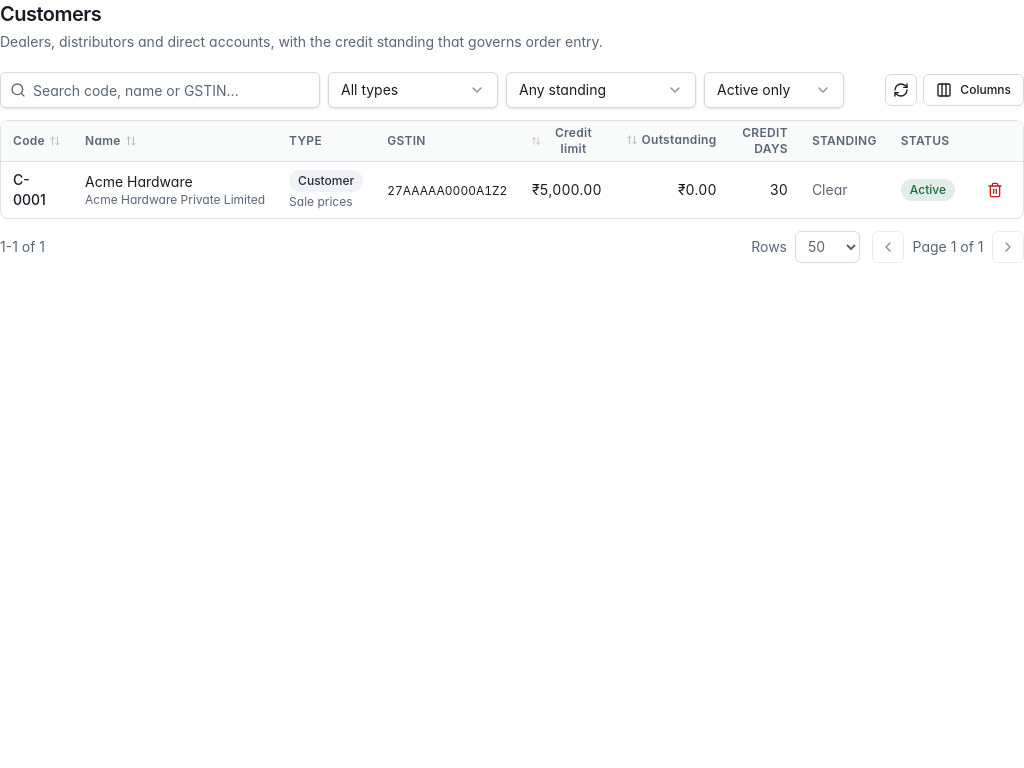
Test case: retiring an account › shows the API refusal in the dialog, next to what was typed
Click the button named "Retire C-0001" at coordinates (995, 190), box [979,174,1011,206]
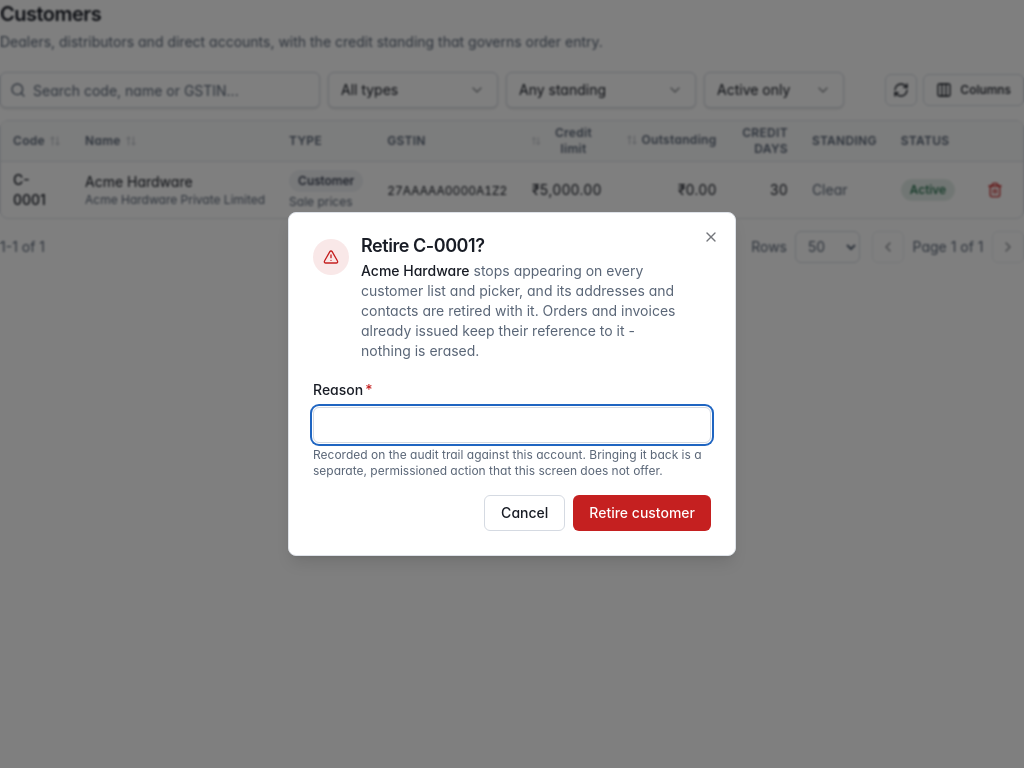
expect the field labelled "Reason*" is shown: met
Type "Duplicate account" into the field labelled "Reason*" at coordinates (512, 425), box [313,407,711,443]
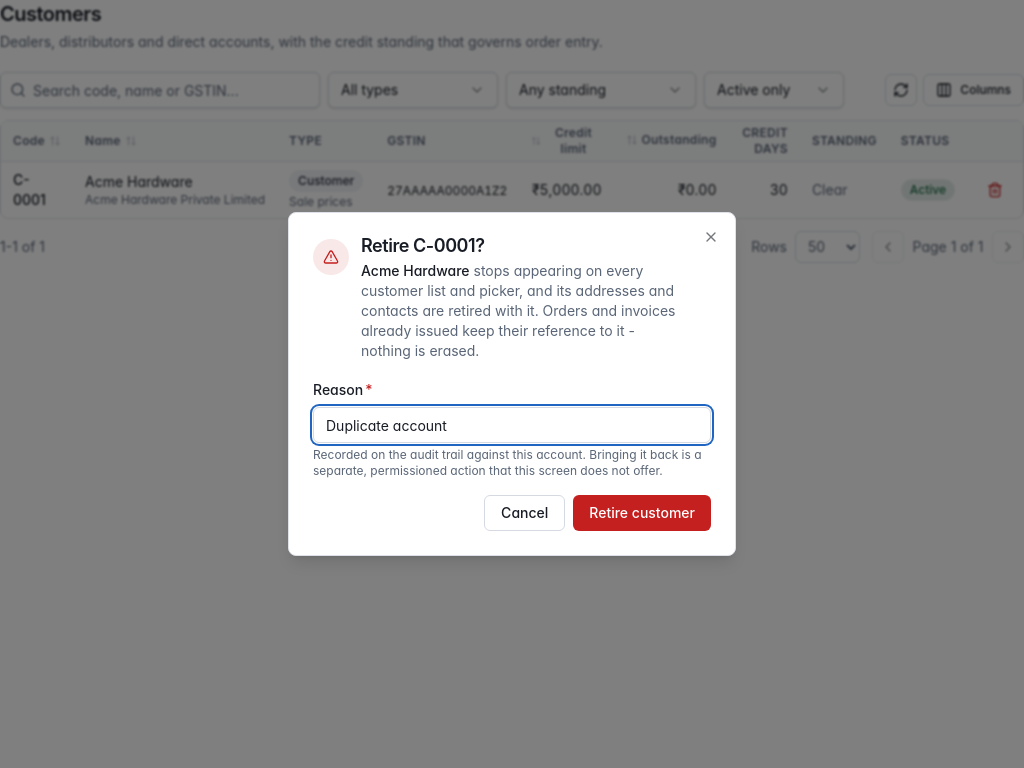
Click the button "Retire customer" at coordinates (642, 513), box [573,495,711,531]
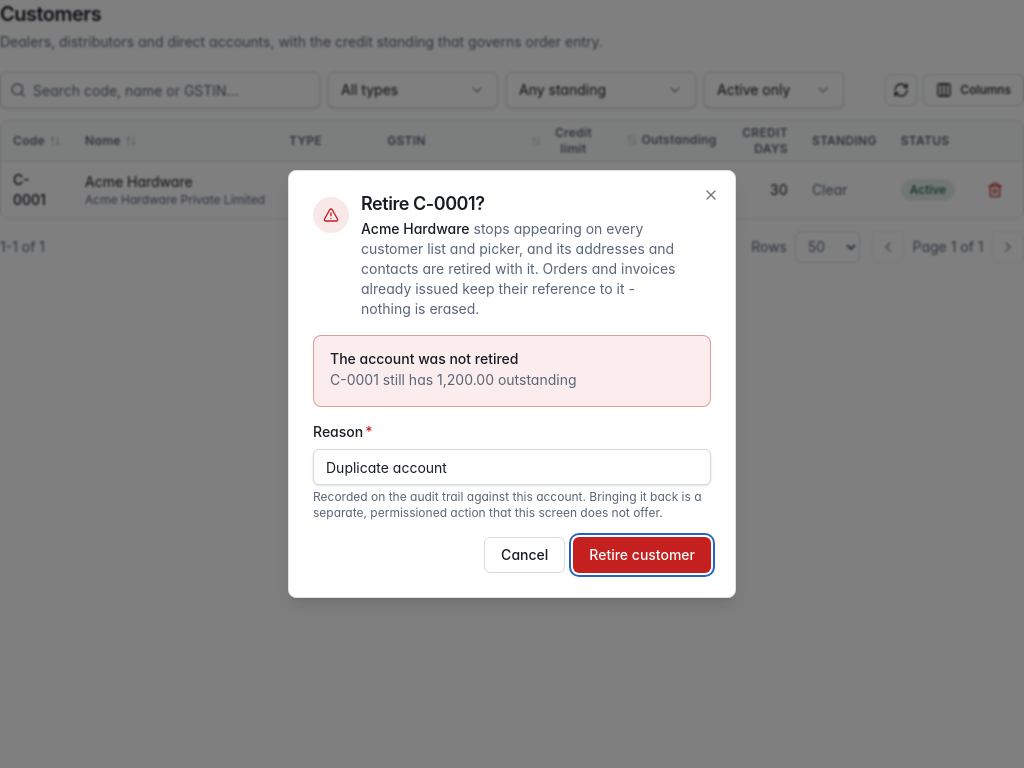
expect the heading "The account was not retired" is shown: met, box [330,350,518,367]
expect the text "C-0001 still has 1,200.00 outstanding" is shown: met, box [330,371,576,388]
